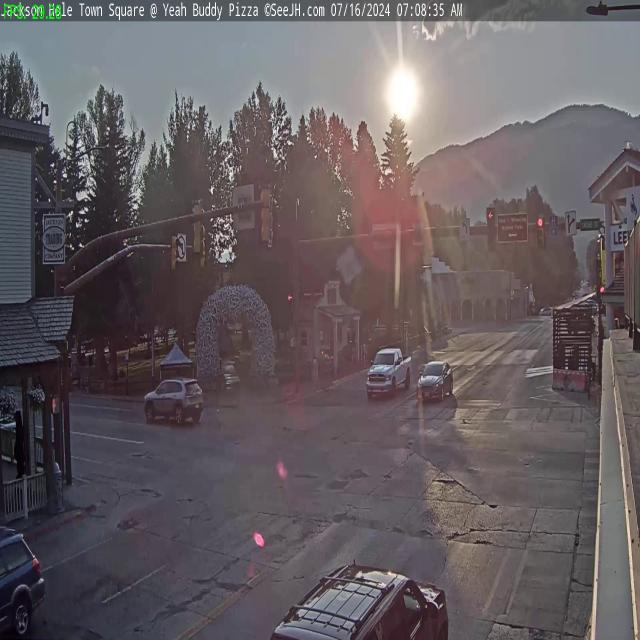pickup: (366, 345, 411, 400)
sedan: (419, 358, 454, 403)
suv: (262, 557, 451, 639), (0, 520, 48, 639), (144, 376, 205, 430)
traffic light: (190, 198, 204, 255), (261, 184, 273, 245), (169, 232, 180, 274), (486, 207, 496, 250), (536, 215, 545, 248)
